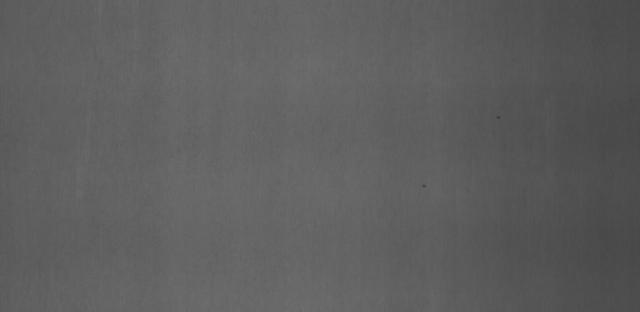inclusion: (413, 174, 437, 200), (488, 108, 510, 125)
